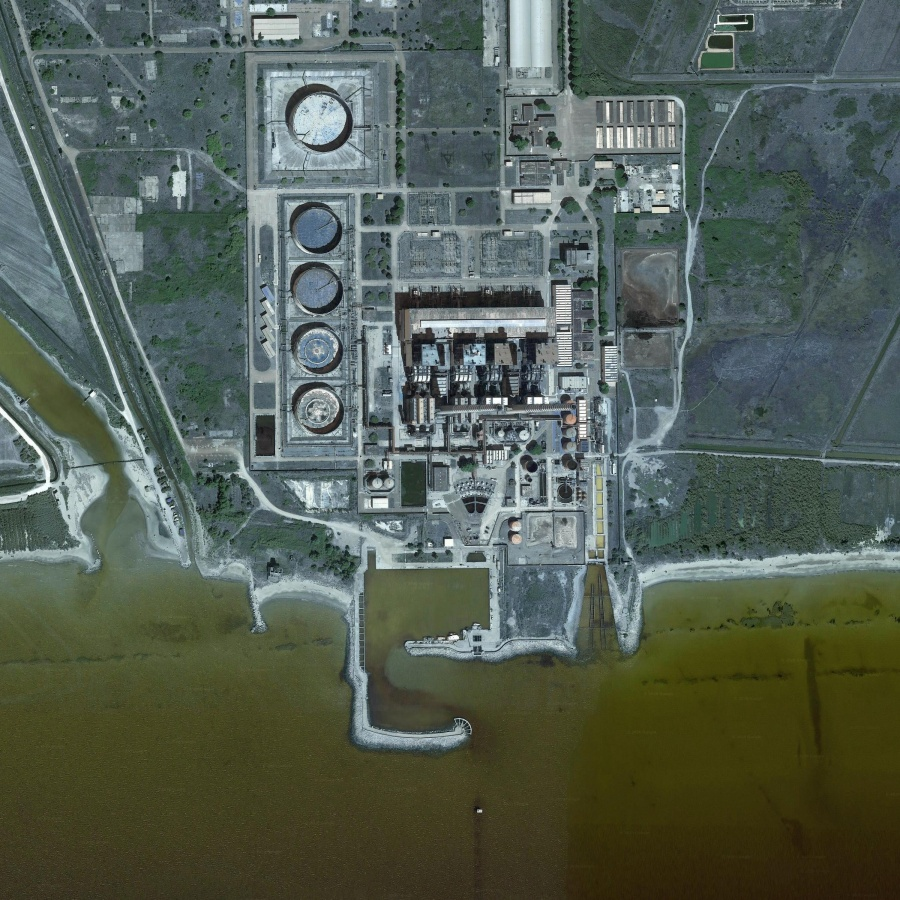PowerPlant: (242, 52, 392, 468)
